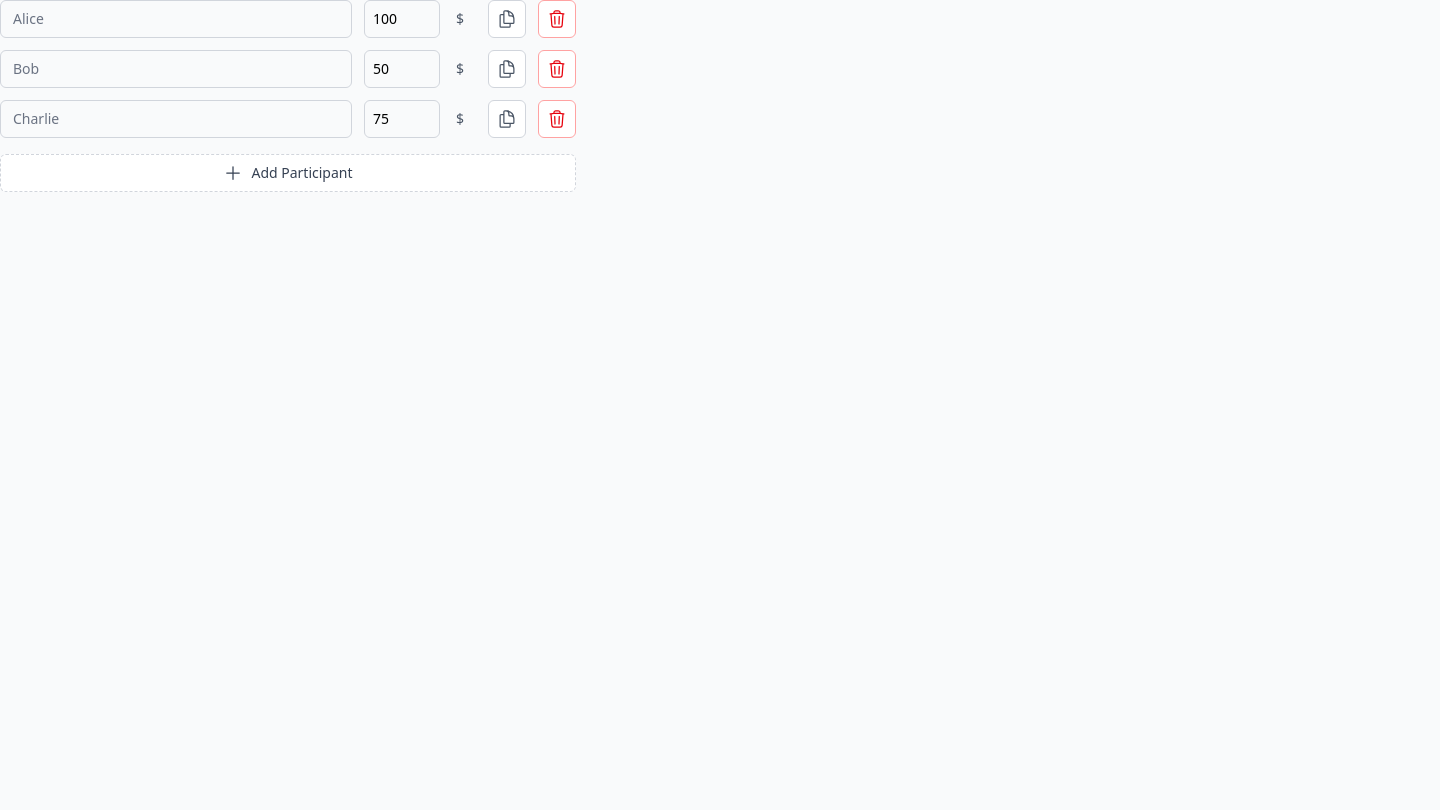
it: ParticipantsList › shows confirmation dialog when deleting participant with touched predictions
Click the button named "remove" at x=557, y=19, box [538, 0, 576, 38]
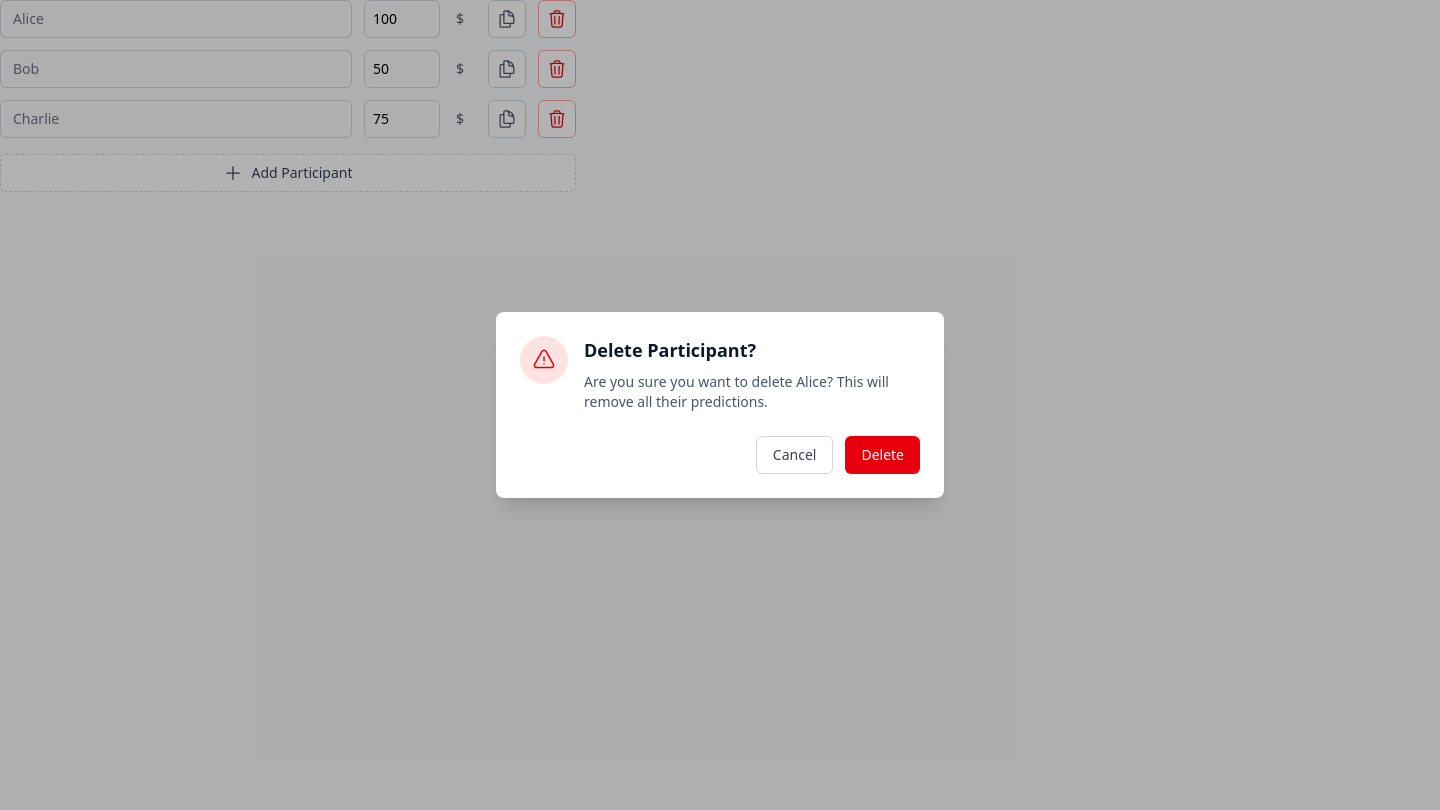
Expected: the heading "Delete Participant?" is shown, [584, 338, 756, 362]
